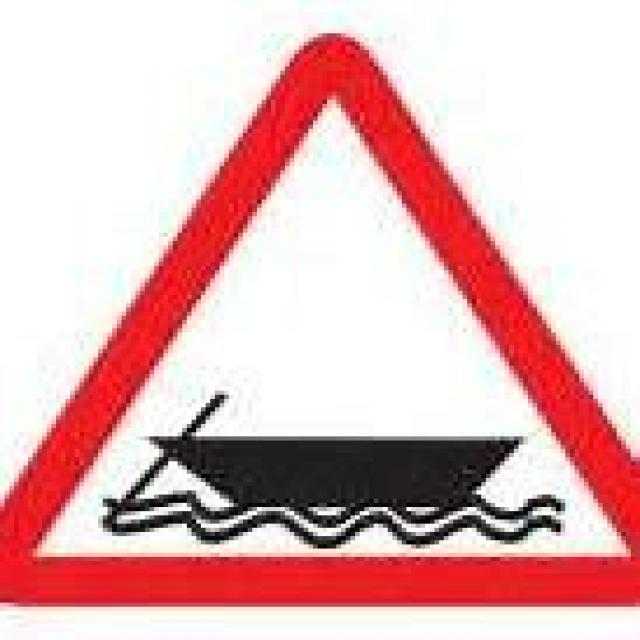FERRY: (0, 25, 635, 607)
